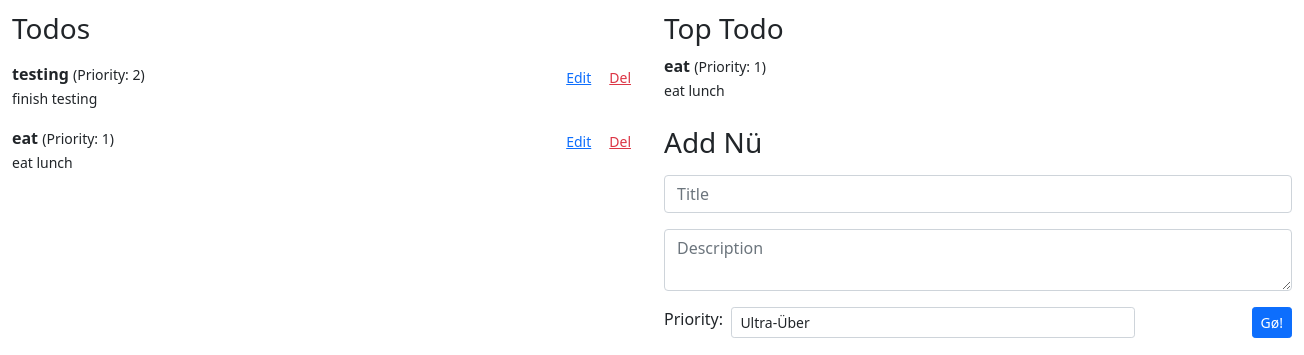
Test: TodoApp › deletes todo
The width and height of the screenshot is (1304, 355).
Click the button "Del" in the row of "finish testing". click: click(620, 77)
box: [600, 62, 640, 93]
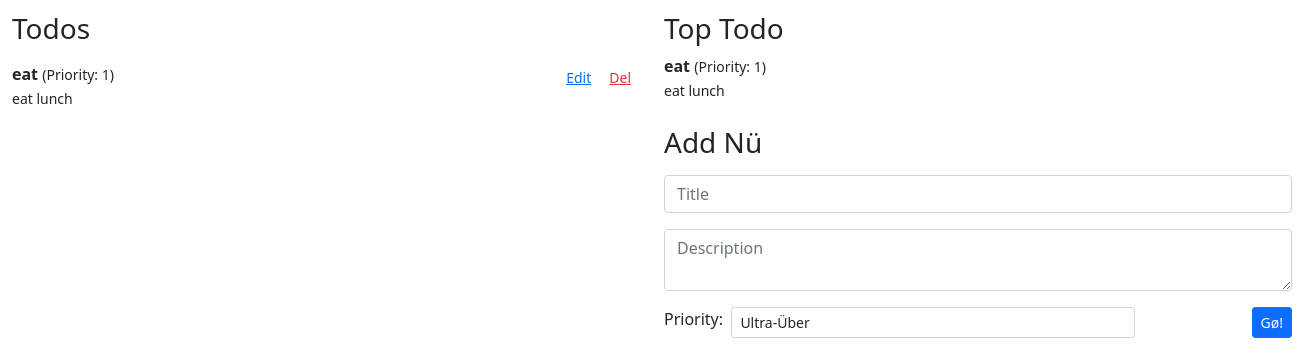
Expected: the text "testing" is gone
Expected: the text "finish testing" is gone
Expected: the text "(Priority: 2)" is gone
